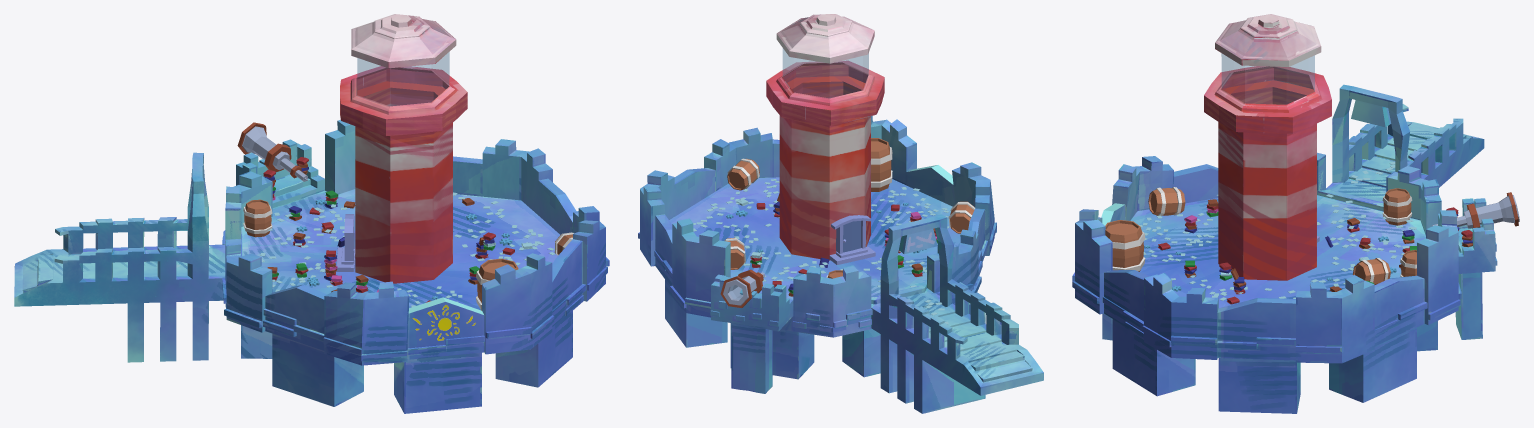
The model's file is phare.glb.
3 views of the same model, side by side, from view 1: azimuth 30°, elevation 25°; view 2: azimuth 150°, elevation 25°; view 3: azimuth 270°, elevation 25° (orthographic). The views are drawn at different scales.
Visible parts, largest first — view 1: Cylinder.005; view 2: Cylinder.005; view 3: Cylinder.005.
Boxes of the visible parts, <box> form: Cylinder.005: <box>14,14,609,413</box>; Cylinder.005: <box>638,14,1043,413</box>; Cylinder.005: <box>1072,14,1519,413</box>.
Size of the model in its own units: 58.76 by 38.01 by 47.79.
Materials: 16 (2 with a texture image).
